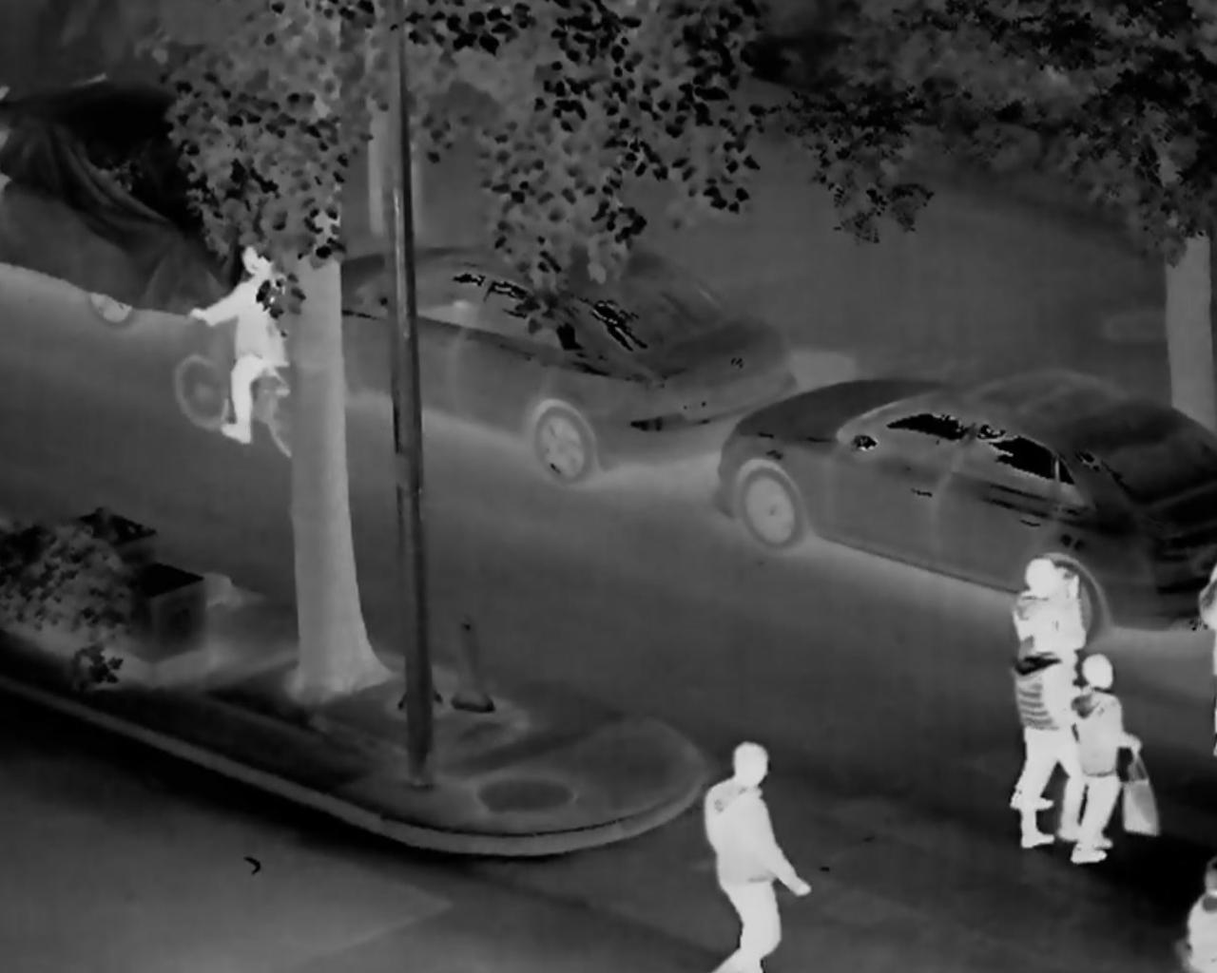person: (186, 234, 317, 467), (693, 735, 821, 973), (999, 592, 1086, 862), (1072, 644, 1153, 872), (1024, 550, 1092, 711)
